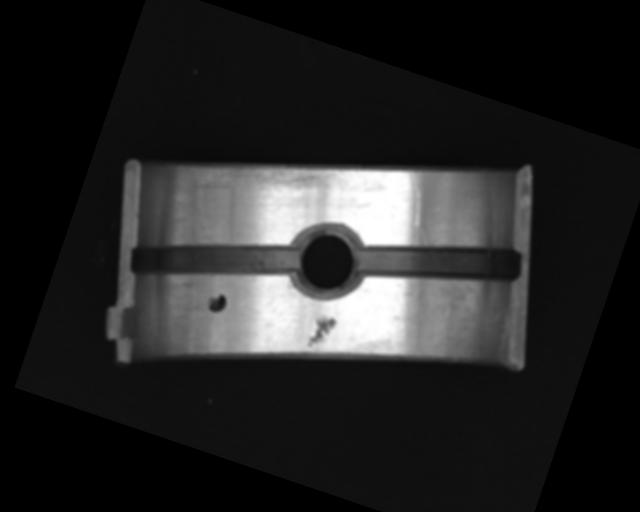blot: (205, 291, 229, 316)
bruise: (305, 312, 338, 353)
gap: (124, 197, 302, 321), (354, 204, 524, 319)
hole: (282, 215, 373, 302)
nick: (394, 167, 434, 226)
scratch: (185, 123, 343, 230)
